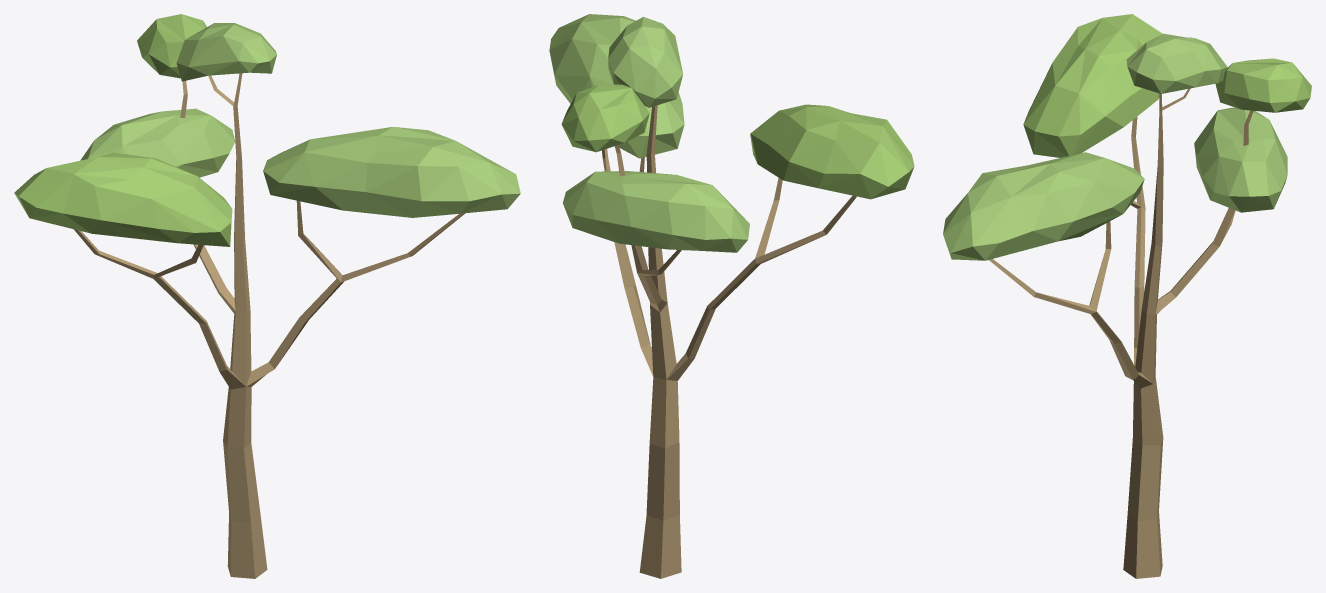
The model's file is Acacia_Tree_l_BT_04.fbx.
3 renders of one model, left to right at view 1: azimuth 30°, elevation 25°; view 2: azimuth 150°, elevation 25°; view 3: azimuth 270°, elevation 25°, orthographic. The views are drawn at different scales.
Parts seen in each view (by area): view 1: Acacia_Tree_l_BT_04; view 2: Acacia_Tree_l_BT_04; view 3: Acacia_Tree_l_BT_04.
Boxes of the visible parts, x1=… form: Acacia_Tree_l_BT_04: x1=14, y1=14, x2=520, y2=578; Acacia_Tree_l_BT_04: x1=549, y1=14, x2=914, y2=578; Acacia_Tree_l_BT_04: x1=943, y1=14, x2=1311, y2=578.
Size of the model in its own units: 986 by 1205 by 756.
